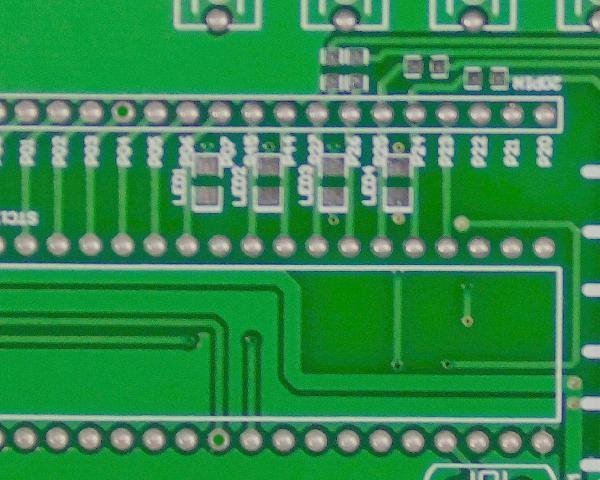missing hole: (203, 422, 234, 457), (108, 95, 140, 127)
